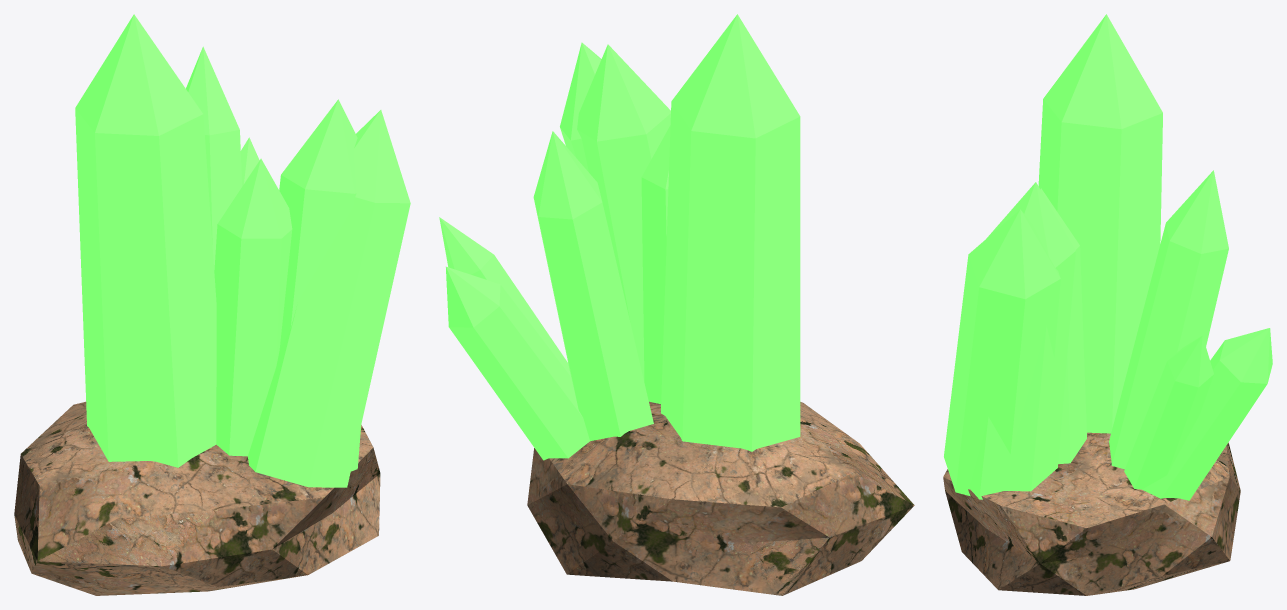
File: Crystal_Green_L.fbx
3 renders of one model, left to right at view 1: azimuth 30°, elevation 25°; view 2: azimuth 150°, elevation 25°; view 3: azimuth 270°, elevation 25°, orthographic. The views are drawn at different scales.
Visible parts, largest first — view 1: Crystal_Green_L; view 2: Crystal_Green_L; view 3: Crystal_Green_L.
Boxes of the visible parts, x1,y1,x2,y2 form: Crystal_Green_L: (14,14,410,595); Crystal_Green_L: (439,14,914,595); Crystal_Green_L: (943,14,1272,595).
Bounding box in the file's own units: 3.76 × 5.3 × 3.01.
